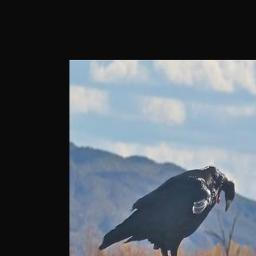Crow: (97, 163, 236, 256)
